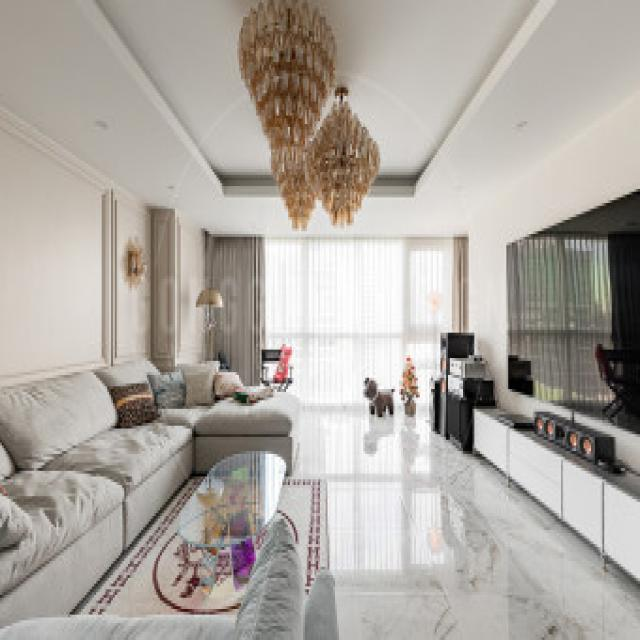Sofa: (1, 352, 162, 616)
Table: (174, 448, 289, 591)
tv: (505, 190, 640, 434)
